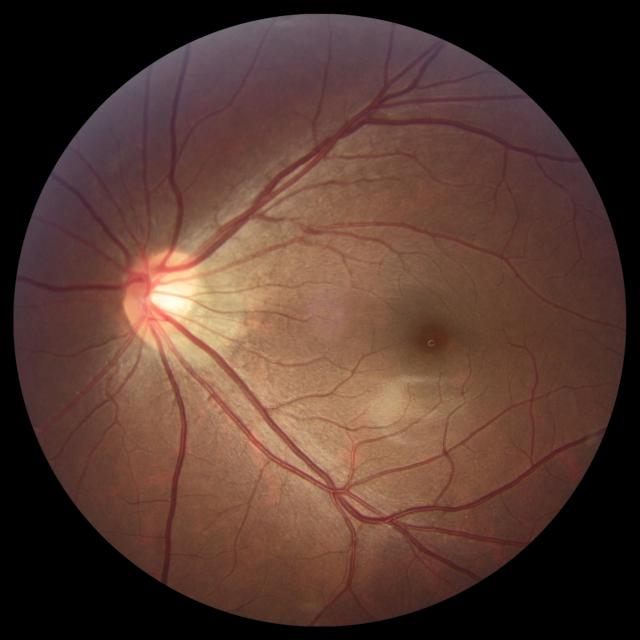OC: (148, 279, 185, 315)
OD: (124, 249, 200, 338)
